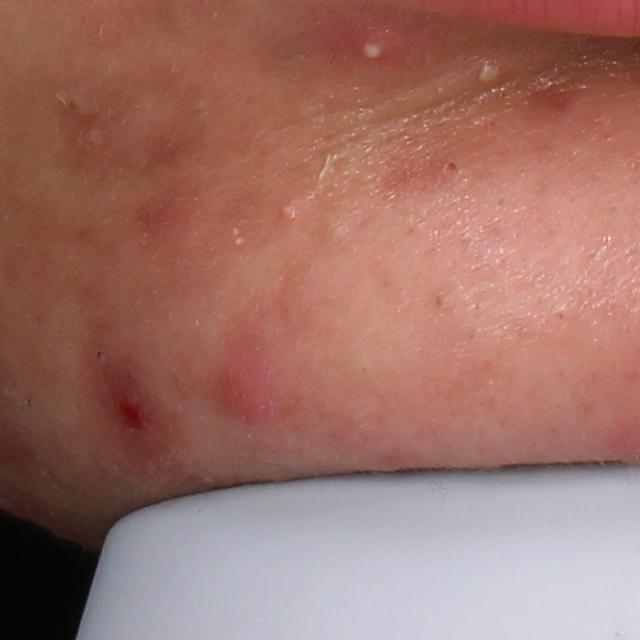comedo: (439, 156, 463, 179), (556, 306, 571, 323)
papule: (207, 331, 270, 435), (101, 367, 155, 444), (272, 195, 307, 229)
pustule: (319, 8, 424, 78), (471, 53, 516, 99)
